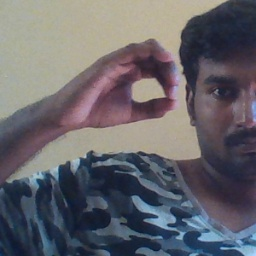O: (57, 35, 183, 131)
